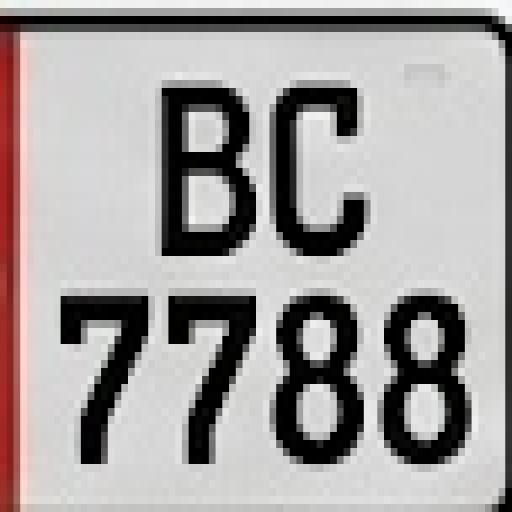7: (50, 270, 152, 474), (159, 287, 259, 472)
8: (274, 280, 363, 492), (378, 286, 482, 466)
B: (154, 75, 259, 262)
C: (268, 74, 374, 268)
